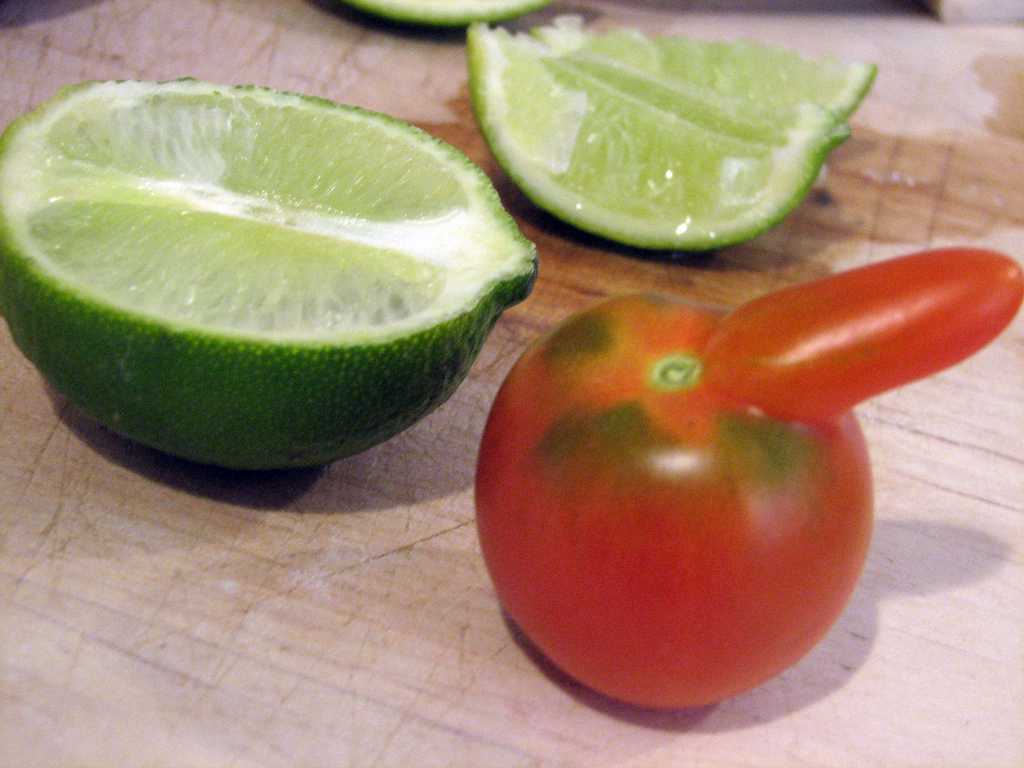Tomato: (492, 257, 927, 726)
